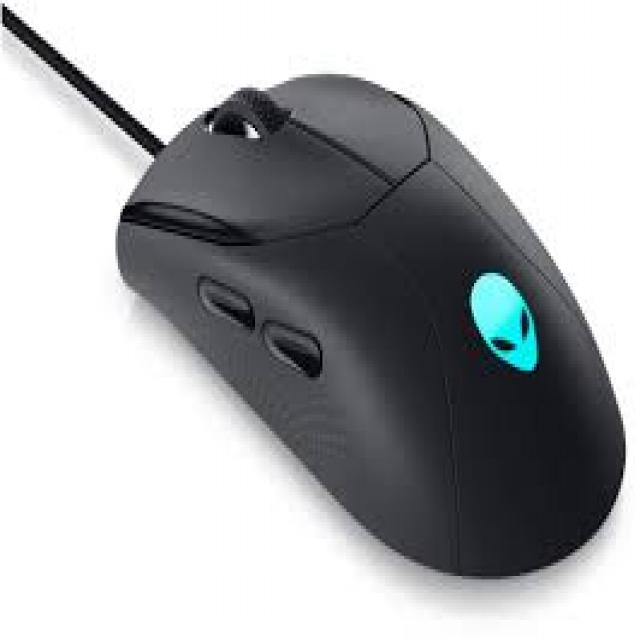others: (2, 3, 636, 580)
